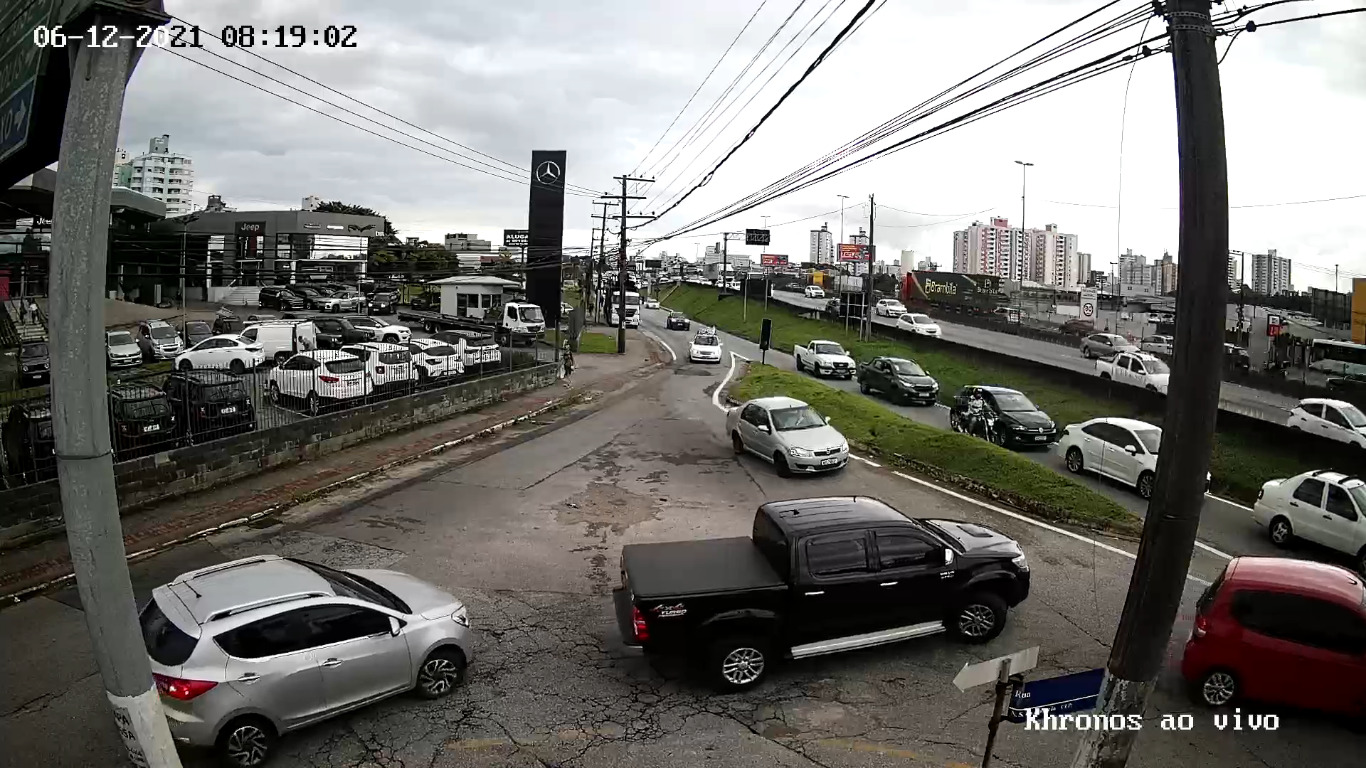car: (612, 492, 1031, 694), (117, 553, 473, 764), (1182, 557, 1366, 723), (724, 395, 849, 479)
